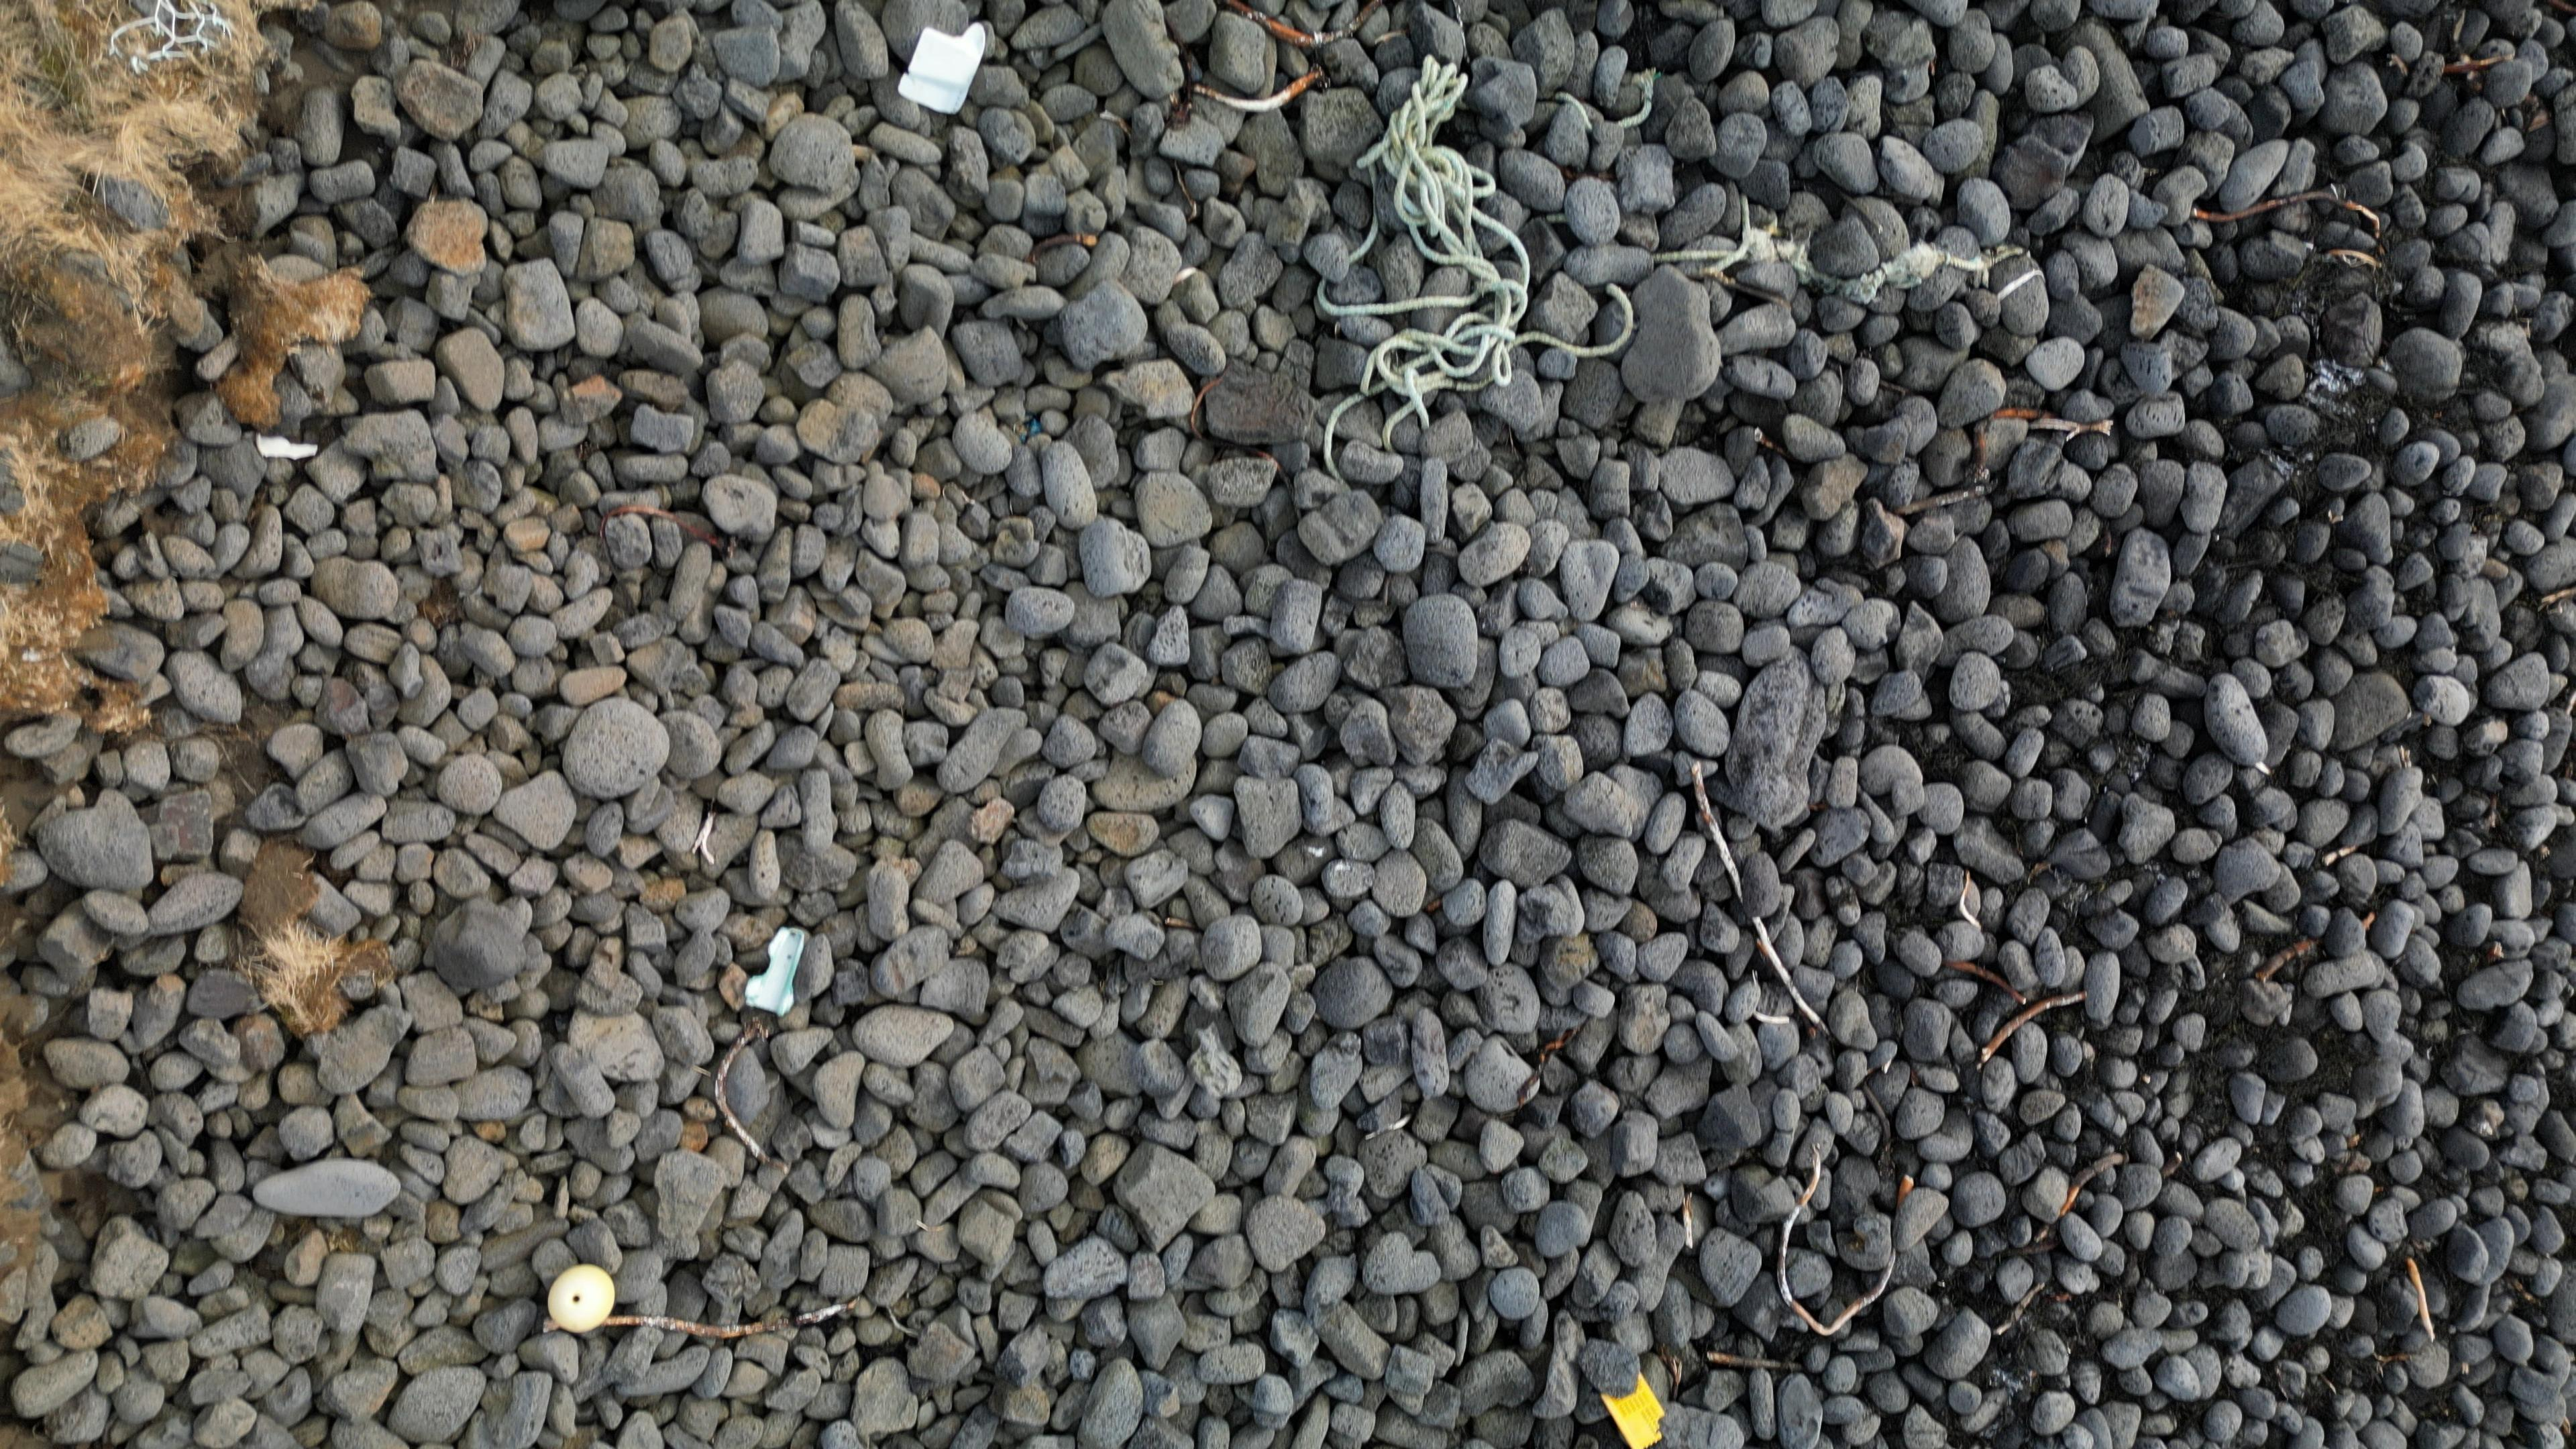trash: (1318, 55, 1529, 467), (901, 25, 985, 115), (745, 925, 805, 1016), (1569, 287, 1635, 363), (548, 1263, 614, 1334), (1605, 1378, 1665, 1449), (257, 437, 317, 458)
